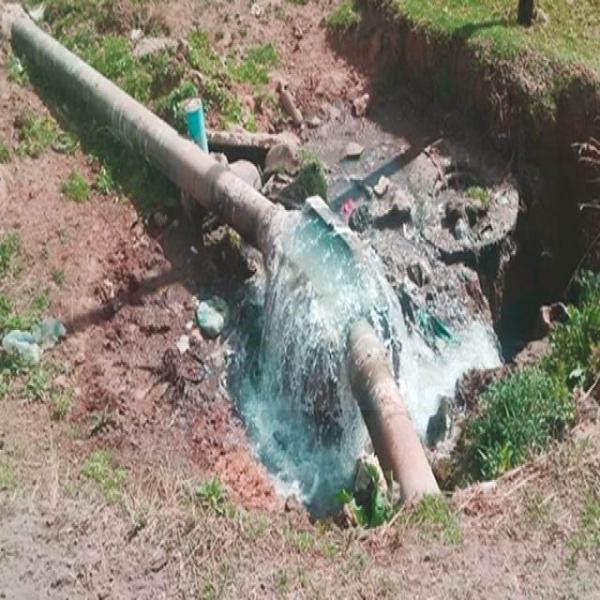leak: (258, 174, 418, 410)
